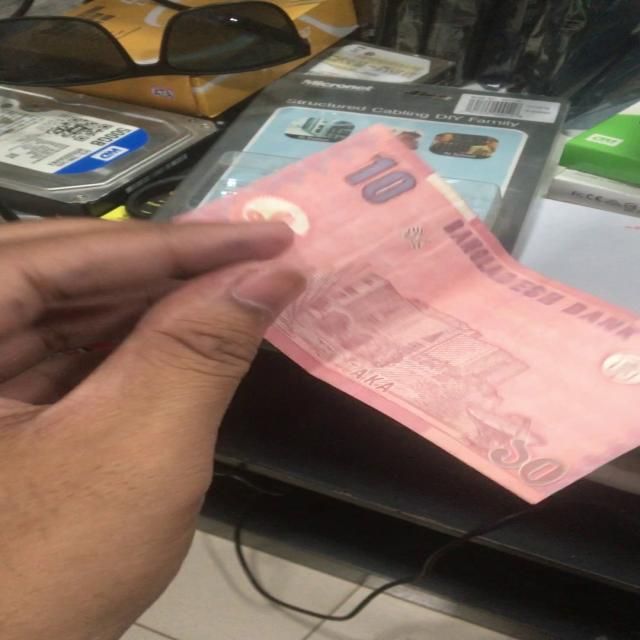Taka: (155, 127, 640, 490)
